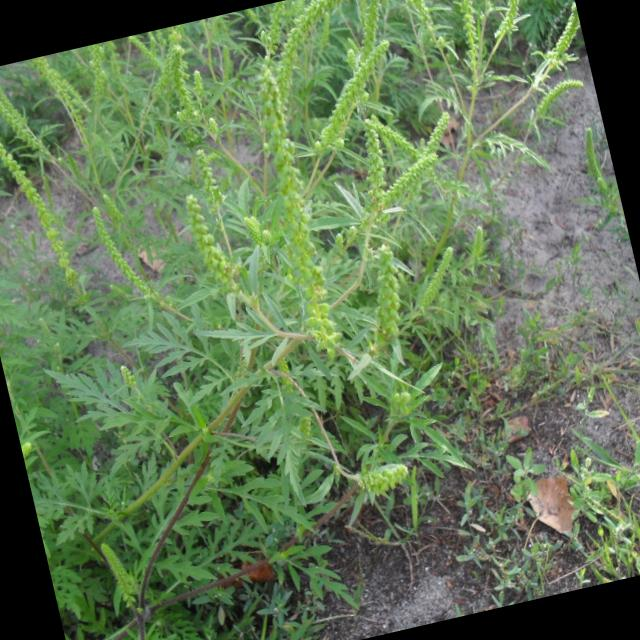ambrosia: (232, 7, 462, 369), (0, 24, 209, 207), (413, 0, 604, 165), (148, 144, 286, 344), (73, 504, 193, 630), (332, 422, 442, 532)
